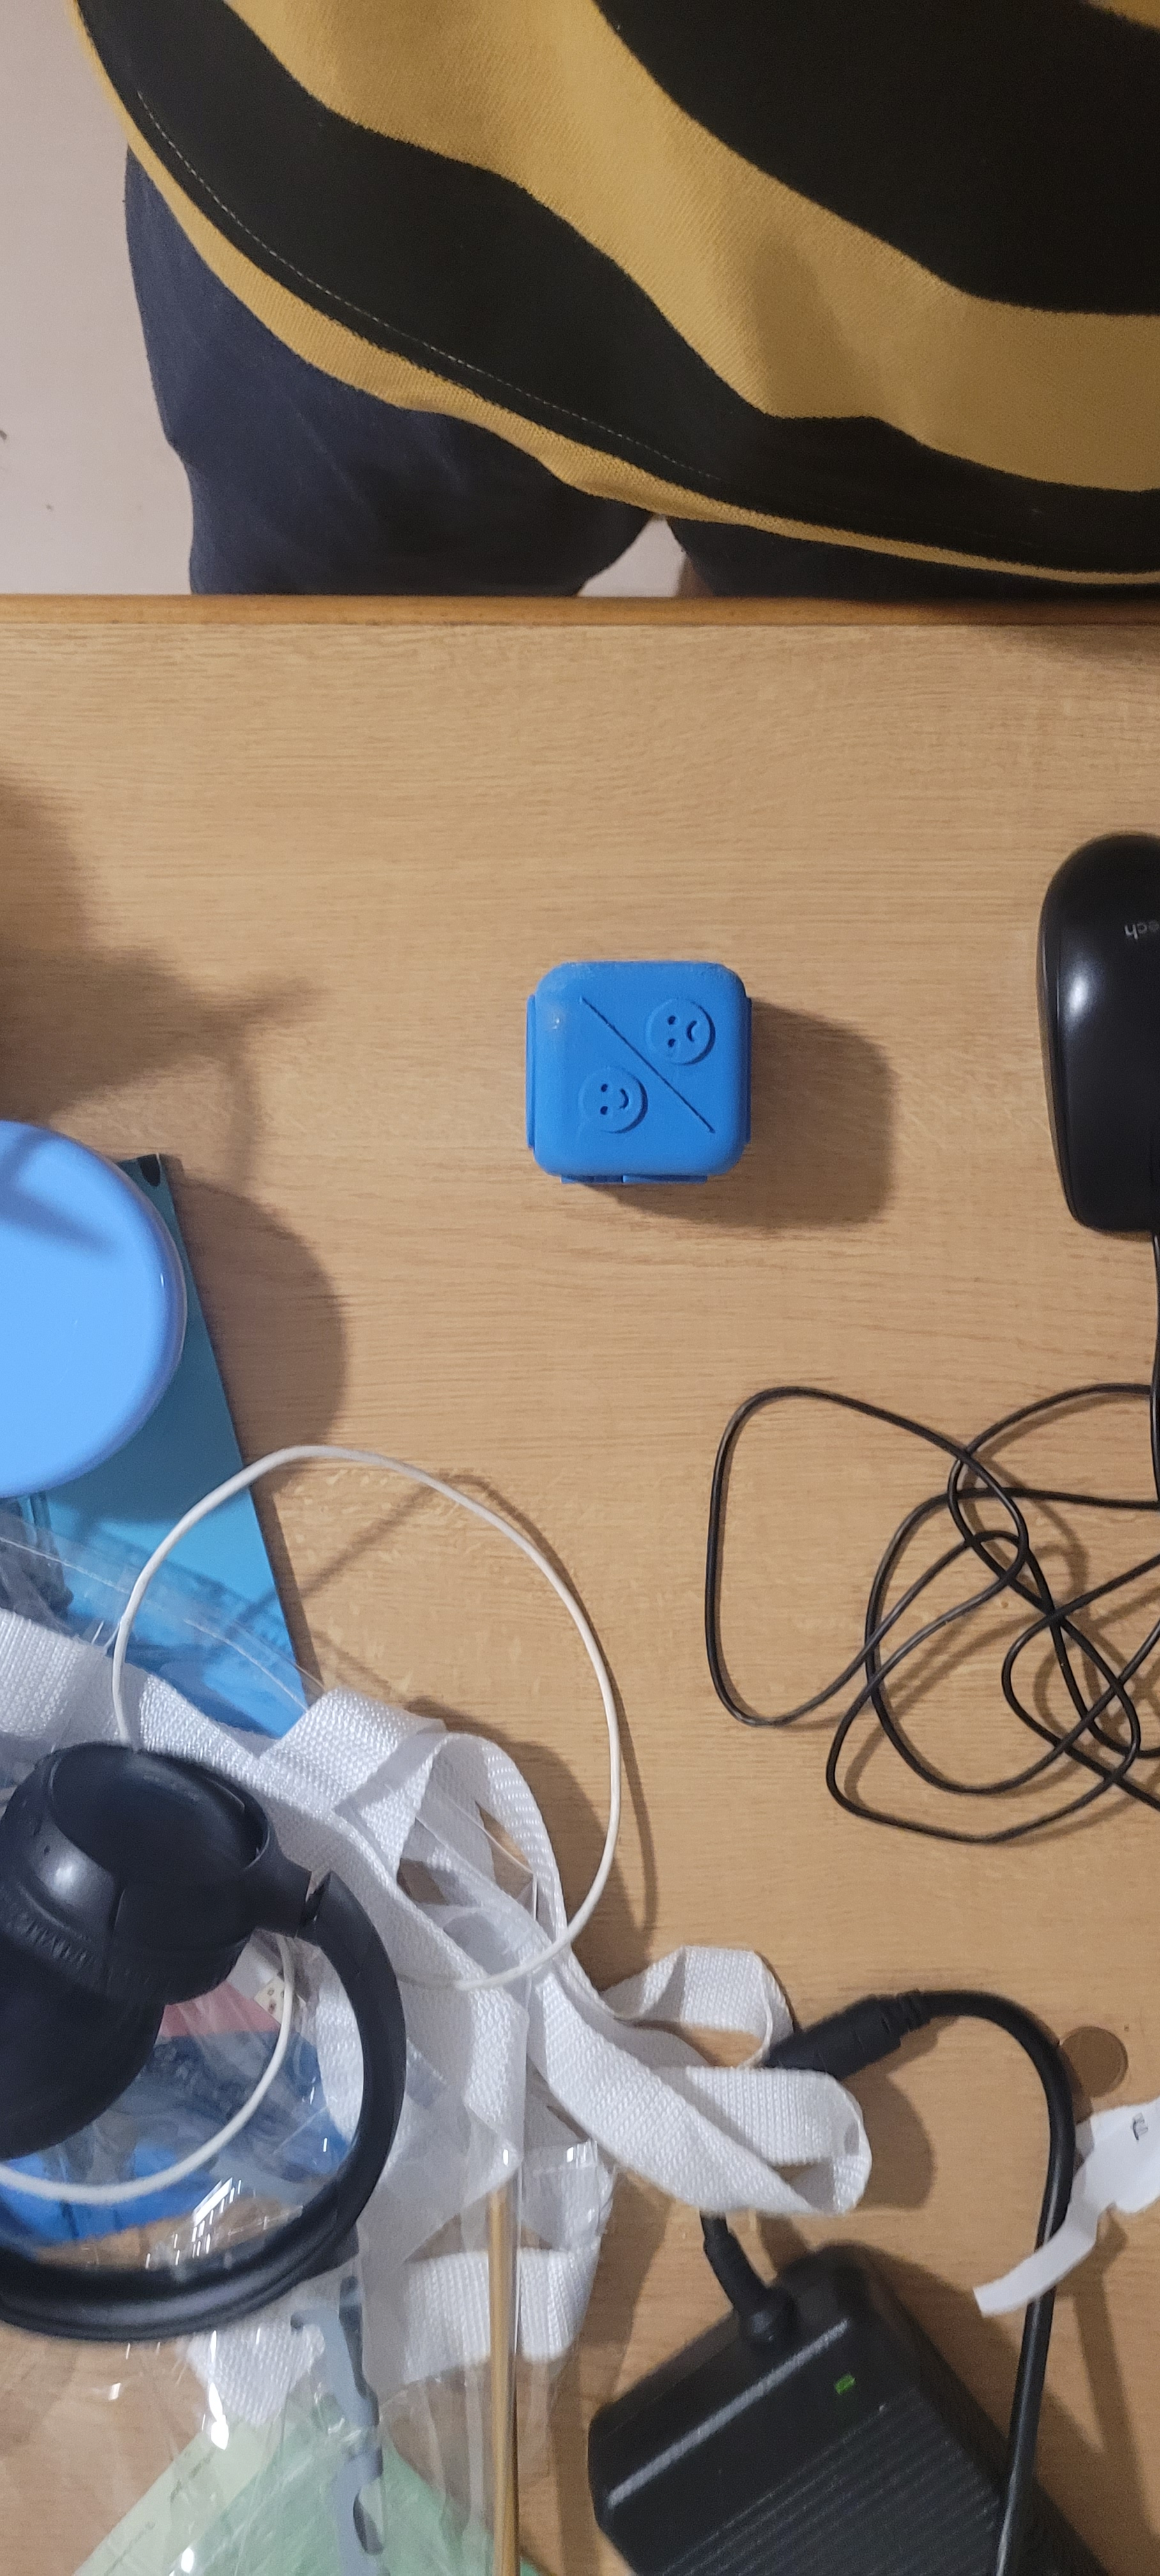Like/Dislike: (509, 917, 797, 1222)
